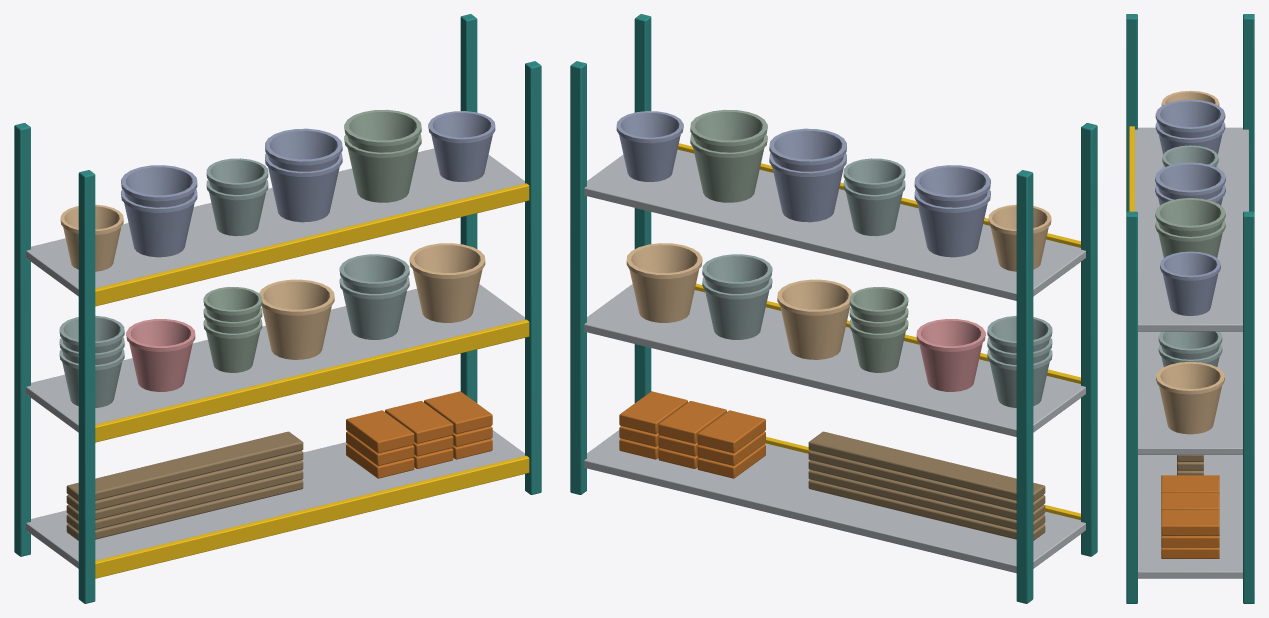
File: product_rack.fbx
3 renders of one model, left to right at view 1: azimuth 30°, elevation 25°; view 2: azimuth 150°, elevation 25°; view 3: azimuth 270°, elevation 25°, orthographic. The views are drawn at different scales.
Visible parts, largest first — view 1: product_rack; view 2: product_rack; view 3: product_rack.
Boxes of the visible parts, bbox=[...] form: product_rack: bbox=[14, 14, 541, 603]; product_rack: bbox=[570, 14, 1097, 603]; product_rack: bbox=[1126, 14, 1254, 603].
Bounding box in the file's own units: 2.46 × 2.2 × 0.66.
